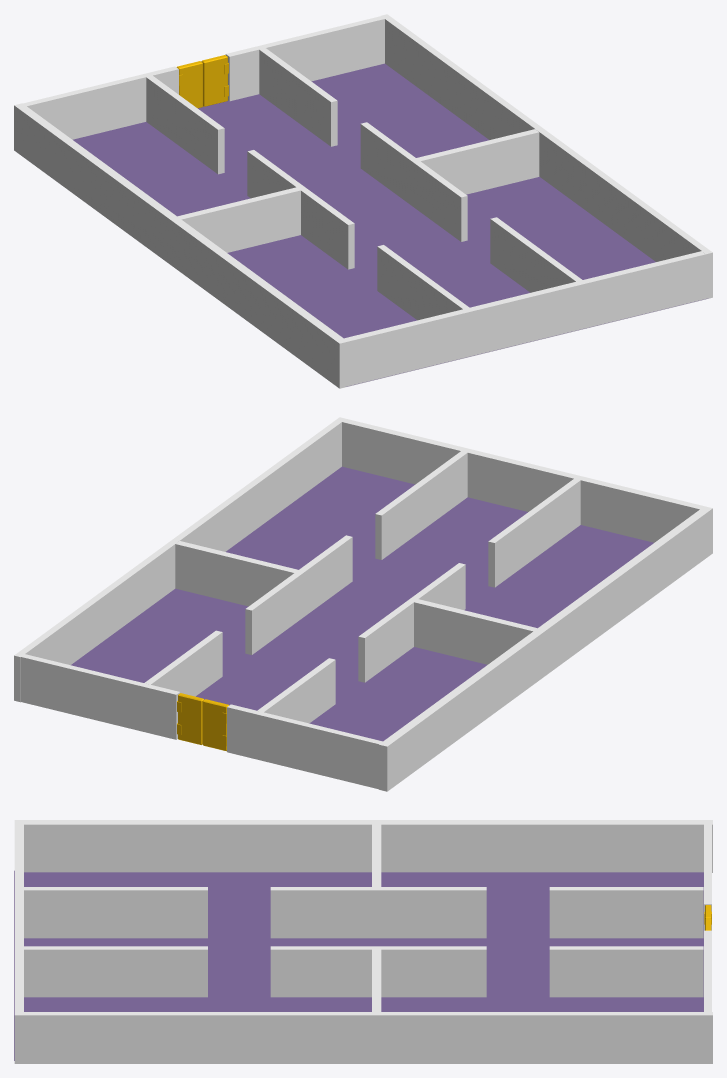
File: maps_61.fbx
The picture shows the model from 3 angles, top to bottom: view 1: azimuth 30°, elevation 25°; view 2: azimuth 150°, elevation 25°; view 3: azimuth 270°, elevation 25°; orthographic projection. The views are drawn at different scales.
Visible parts, largest first — view 1: wall_01_08_geo, wall_01_07_geo, wall_01_05_geo, wall_01_06_geo, wall_01_09_geo1, wall_01_11_geo9, wall_01_09_geo, wall_01_03_geo16, wall_01_03_geo17, wall_01_11_geo5, wall_01_11_geo10, wall_01_11_geo4 (+4 smaller); view 2: wall_01_08_geo, wall_01_07_geo, wall_01_06_geo, wall_01_05_geo, wall_01_09_geo1, wall_01_09_geo, wall_01_11_geo9, wall_01_03_geo16, wall_01_03_geo17, wall_01_11_geo7, wall_01_11_geo8, wall_01_11_geo5 (+4 smaller); view 3: wall_01_08_geo, wall_01_06_geo, wall_01_07_geo, wall_01_11_geo5, wall_01_11_geo9, wall_01_11_geo7, wall_01_11_geo8, wall_01_11_geo4, wall_01_11_geo10, wall_01_05_geo, wall_01_09_geo, wall_01_09_geo1 (+2 smaller).
Boxes of the visible parts, x1,y1,x2,y2 form: wall_01_08_geo: (73, 63, 708, 386); wall_01_07_geo: (14, 103, 347, 388); wall_01_05_geo: (344, 251, 706, 386); wall_01_06_geo: (381, 14, 712, 299); wall_01_09_geo1: (225, 16, 384, 101); wall_01_11_geo9: (360, 122, 467, 241); wall_01_09_geo: (23, 66, 178, 139); wall_01_03_geo16: (177, 187, 300, 252); wall_01_03_geo17: (416, 129, 539, 194); wall_01_11_geo5: (247, 150, 354, 269); wall_01_11_geo10: (259, 48, 337, 146); wall_01_11_geo4: (146, 75, 224, 174); wall_01_08_geo: (71, 466, 653, 741); wall_01_07_geo: (379, 506, 712, 791); wall_01_06_geo: (14, 417, 345, 702); wall_01_05_geo: (342, 419, 704, 542); wall_01_09_geo1: (21, 654, 180, 739); wall_01_09_geo: (227, 704, 382, 789); wall_01_11_geo9: (245, 535, 352, 654); wall_01_03_geo16: (414, 599, 537, 664); wall_01_03_geo17: (175, 541, 298, 606); wall_01_11_geo7: (488, 478, 580, 587); wall_01_11_geo8: (375, 451, 467, 559); wall_01_11_geo5: (358, 563, 465, 682); wall_01_08_geo: (14, 870, 703, 1060); wall_01_06_geo: (14, 1012, 712, 1063); wall_01_07_geo: (14, 820, 712, 872); wall_01_11_geo5: (270, 887, 486, 938); wall_01_11_geo9: (270, 946, 486, 997); wall_01_11_geo7: (23, 887, 207, 938); wall_01_11_geo8: (24, 946, 207, 997); wall_01_11_geo4: (549, 887, 703, 938); wall_01_11_geo10: (549, 946, 703, 997); wall_01_05_geo: (14, 824, 23, 1011); wall_01_09_geo: (704, 824, 711, 930); wall_01_09_geo1: (704, 930, 711, 1011).
Size of the model in its own units: 76.85 by 8.89 by 116.
Materials: 2 (2 with a texture image).
